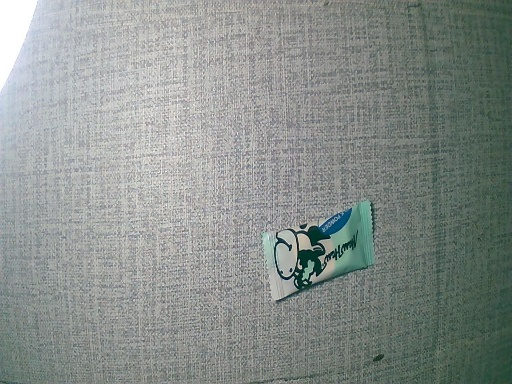plastic: (258, 203, 383, 293)
